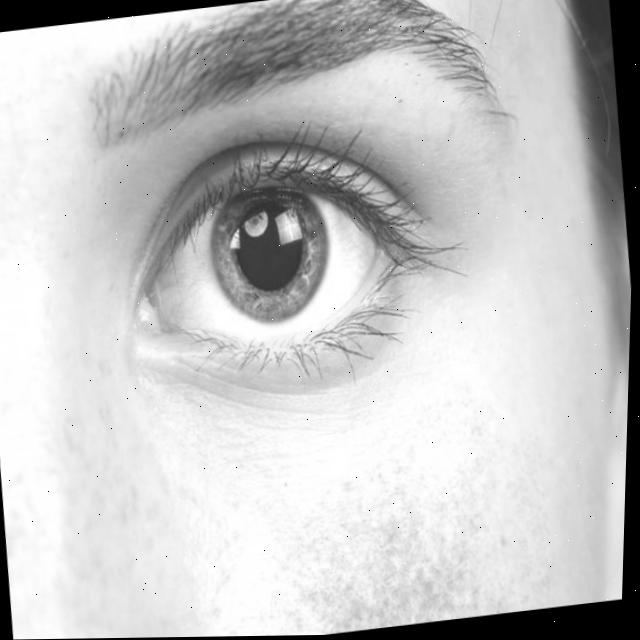Rosacea: (326, 530, 510, 633)
